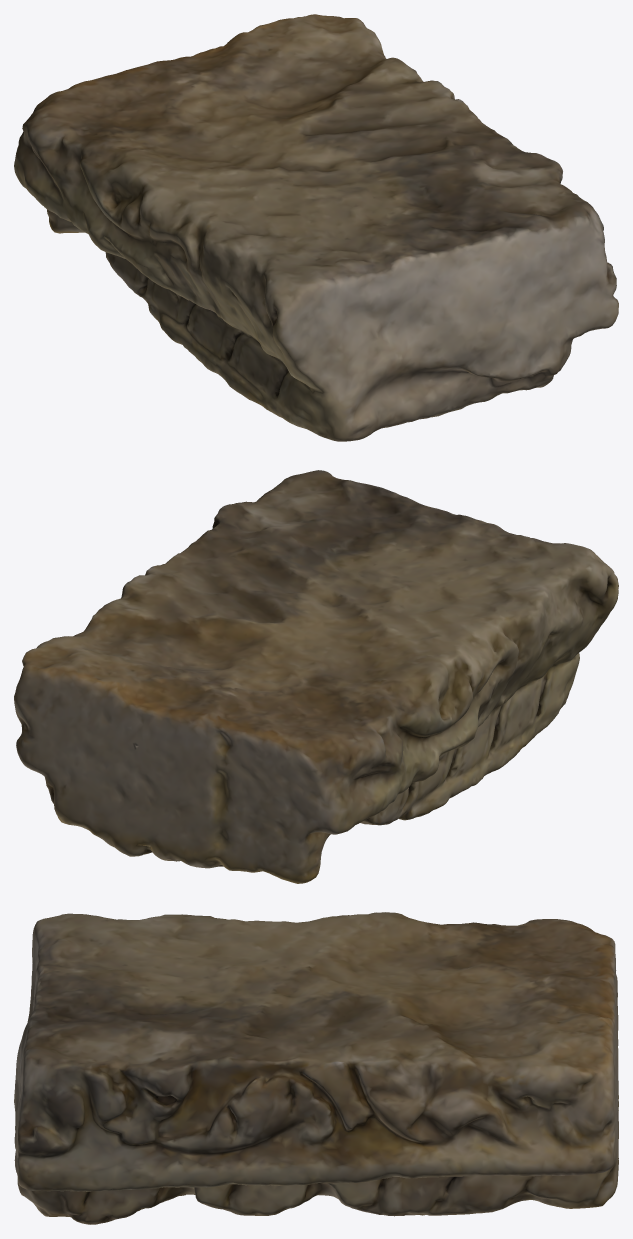
The model's file is Pilastre_QuadricEdgeDecimationX2+preserve+laplacianSmooth.obj.
3 views of the same model, one above another, from view 1: azimuth 30°, elevation 25°; view 2: azimuth 150°, elevation 25°; view 3: azimuth 270°, elevation 25° (orthographic). The views are drawn at different scales.
Bounding box in the file's own units: 7.23 × 3.71 × 10.37.
